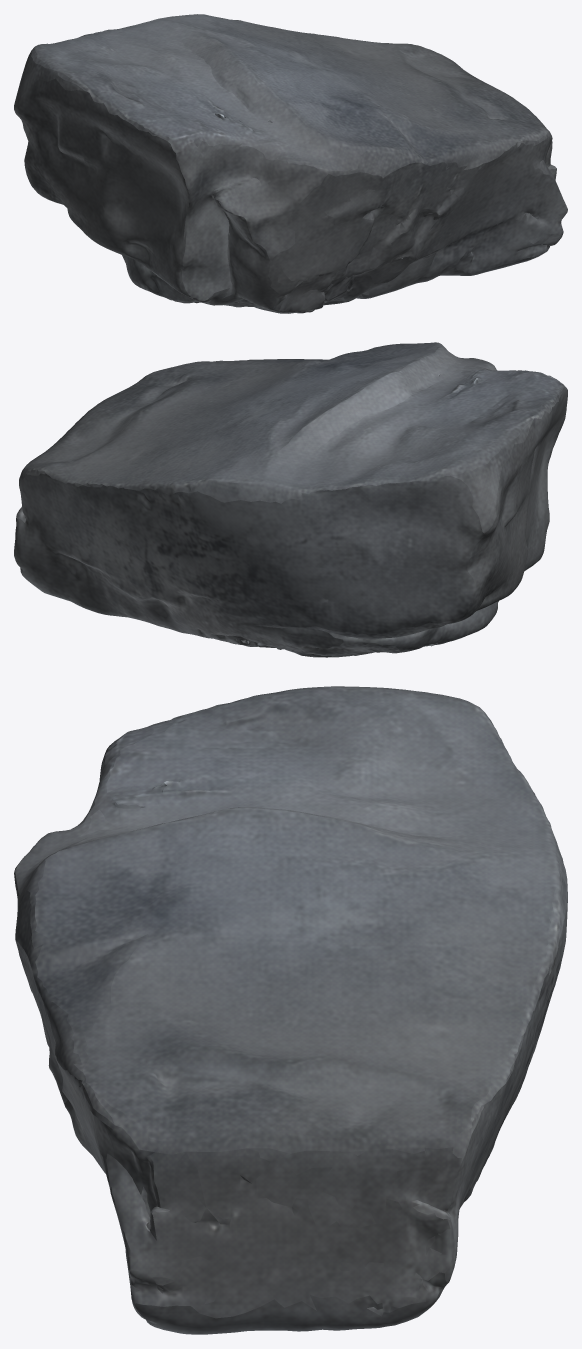
The model's file is gate_passage_001_C1.glb.
3 views of the same model, one above another, from view 1: azimuth 30°, elevation 25°; view 2: azimuth 150°, elevation 25°; view 3: azimuth 270°, elevation 25° (orthographic). The views are drawn at different scales.
Visible parts, largest first — view 1: world; view 2: world; view 3: world.
Boxes of the visible parts, left/top/right/bottom form: world: left=14, top=14, right=567, bottom=313; world: left=14, top=342, right=567, bottom=657; world: left=14, top=686, right=567, bottom=1334.
Size of the model in its own units: 3 by 1.53 by 2.18.
Materials: 1 (1 with a texture image).
